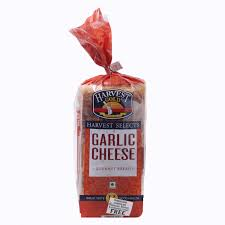bread: (51, 24, 157, 223)
